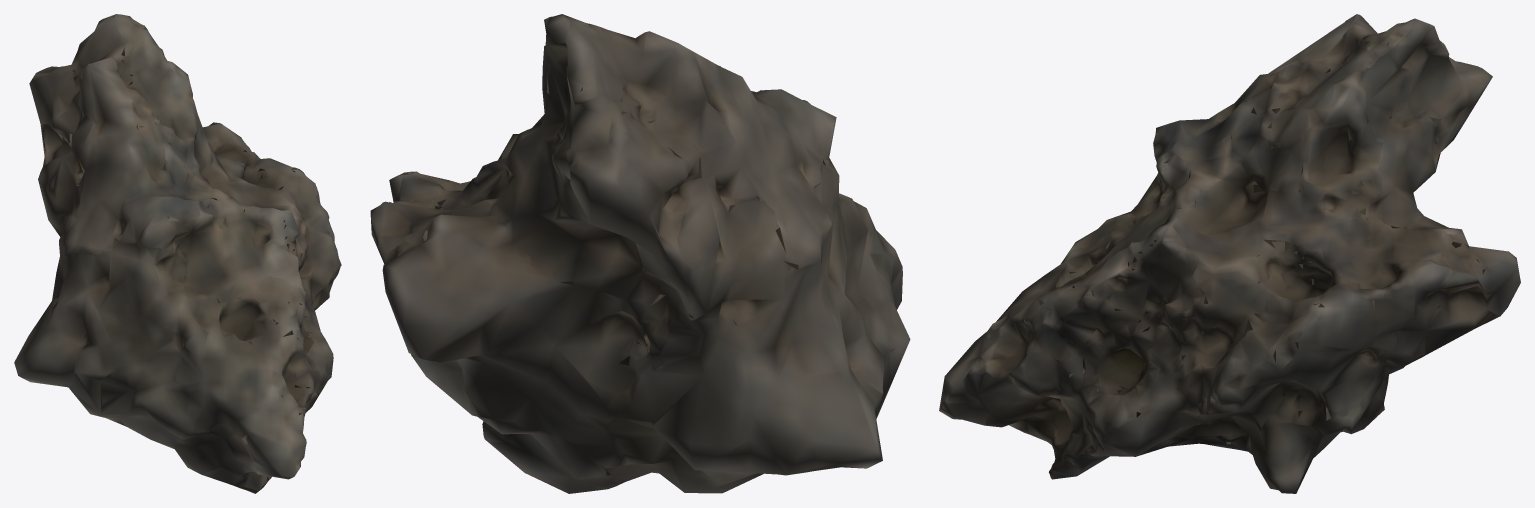
Rendered from asteroid_uncommon_4_lod2.glb.
3 renders of one model, left to right at view 1: azimuth 30°, elevation 25°; view 2: azimuth 150°, elevation 25°; view 3: azimuth 270°, elevation 25°, orthographic. The views are drawn at different scales.
Visible parts, largest first — view 1: model; view 2: model; view 3: model.
Part boxes in pixels (bbox=[...]): model: bbox=[14, 14, 341, 493]; model: bbox=[370, 14, 910, 493]; model: bbox=[939, 14, 1520, 493].
Bounding box in the file's own units: 1.45 × 1.67 × 1.89.
1 material, 1 textured.
